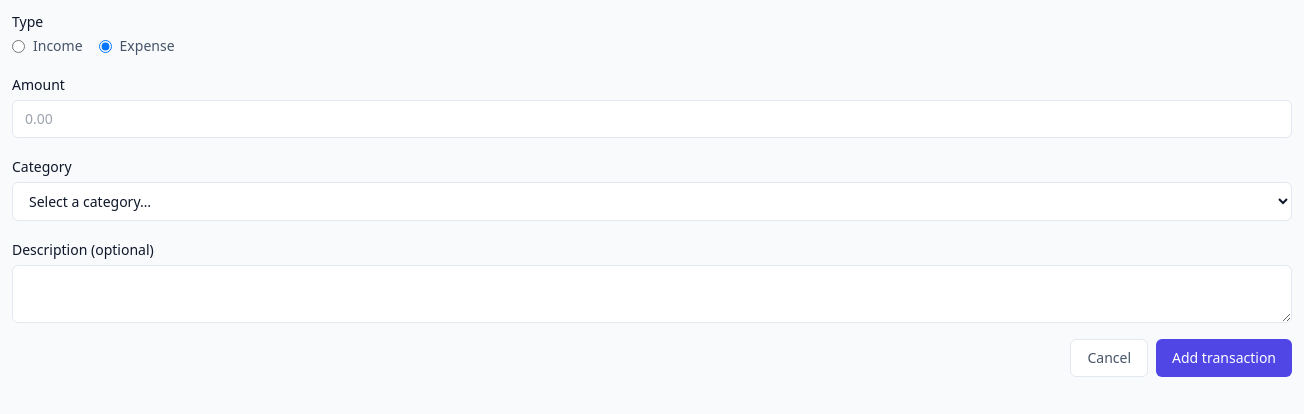
Test case: TransactionForm › shows the Schedule E line for the selected category (Requirement 7.3)
Select "Repairs (Line 14)" in the dropdown labelled "Category" at coordinates (652, 202), box [12,182,1292,221]
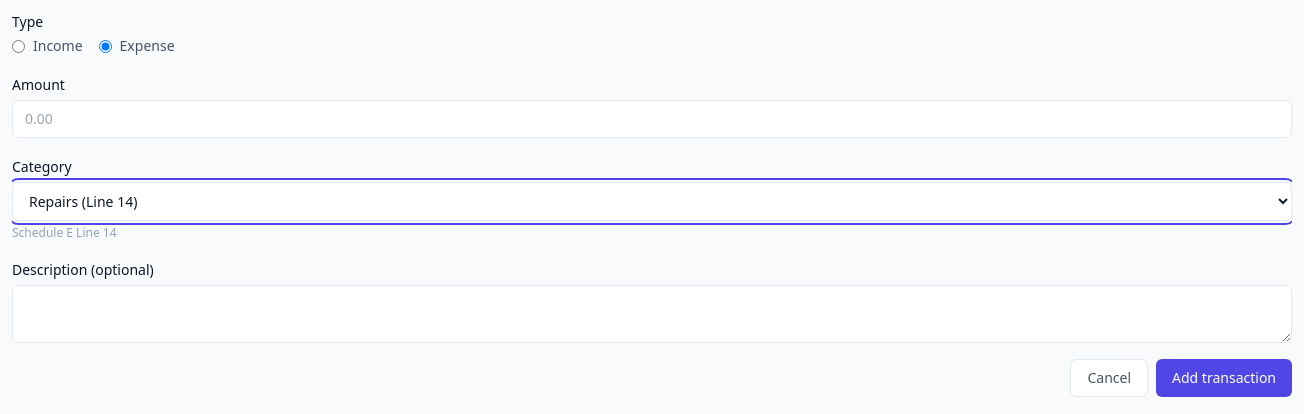
Now the text "Schedule E Line 14" is shown, box [12,224,116,241]
Select "Other (Line 19)" in the dropdown labelled "Category" at coordinates (652, 202), box [12,182,1292,221]
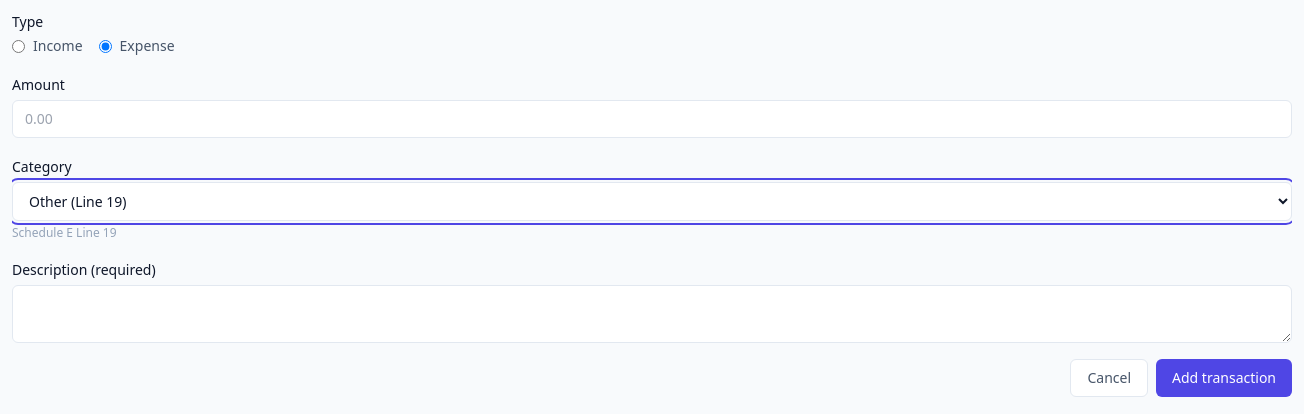
Now the text "Schedule E Line 19" is shown, box [12,224,116,241]
